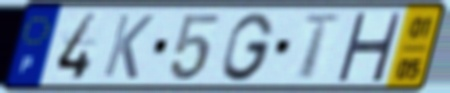4: (51, 11, 96, 83)
5: (167, 11, 223, 83)
G: (220, 10, 277, 83)
H: (334, 10, 404, 84)
K: (100, 12, 157, 82)
T: (297, 13, 343, 82)
